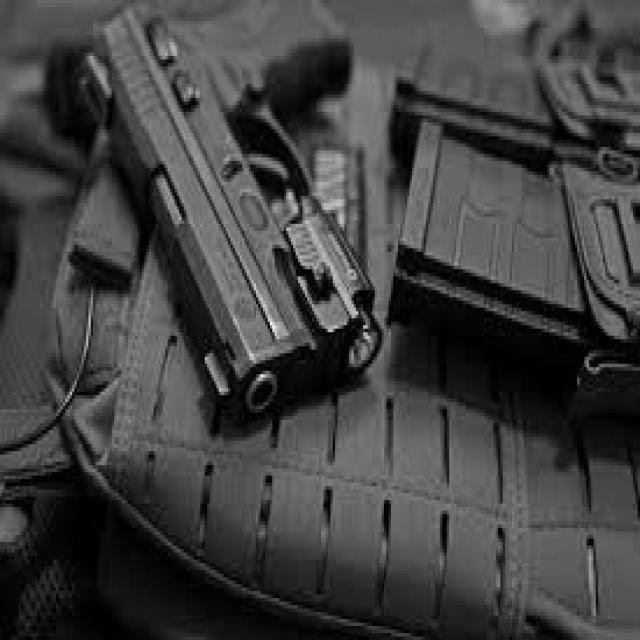handgun: (86, 3, 384, 421)
